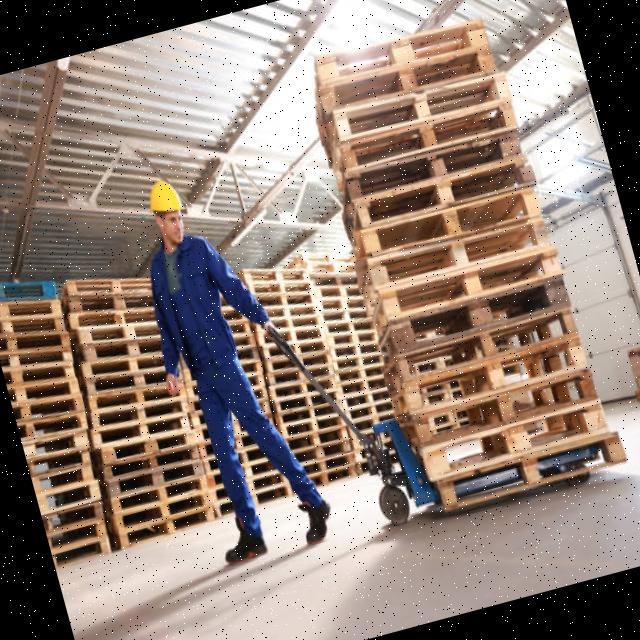Wooden-Pallets: (342, 208, 564, 306), (382, 271, 578, 363), (428, 428, 627, 516), (350, 184, 552, 270), (327, 65, 516, 155), (396, 336, 593, 421), (409, 366, 603, 451), (346, 156, 542, 238), (391, 306, 583, 389), (334, 96, 524, 179), (310, 11, 493, 96), (422, 400, 613, 479), (344, 130, 530, 210), (316, 44, 499, 118), (110, 498, 218, 555), (99, 454, 205, 504), (88, 413, 190, 454), (242, 257, 314, 290)
